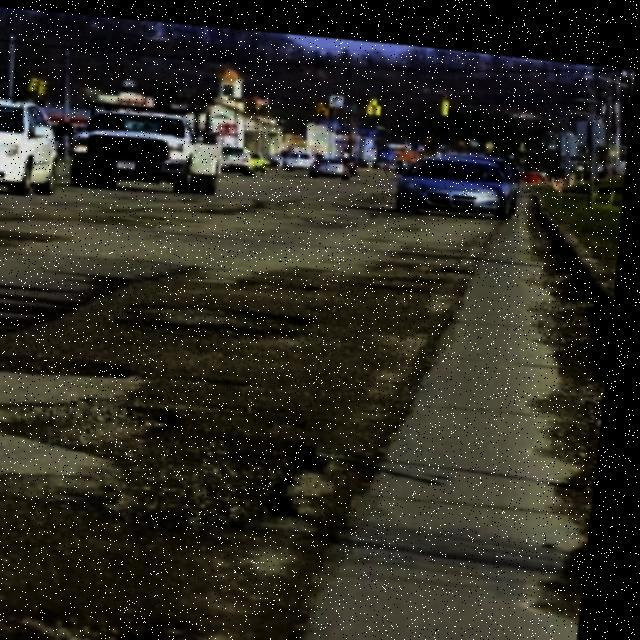pothole: (0, 370, 342, 540), (118, 281, 326, 345), (0, 340, 147, 384)
